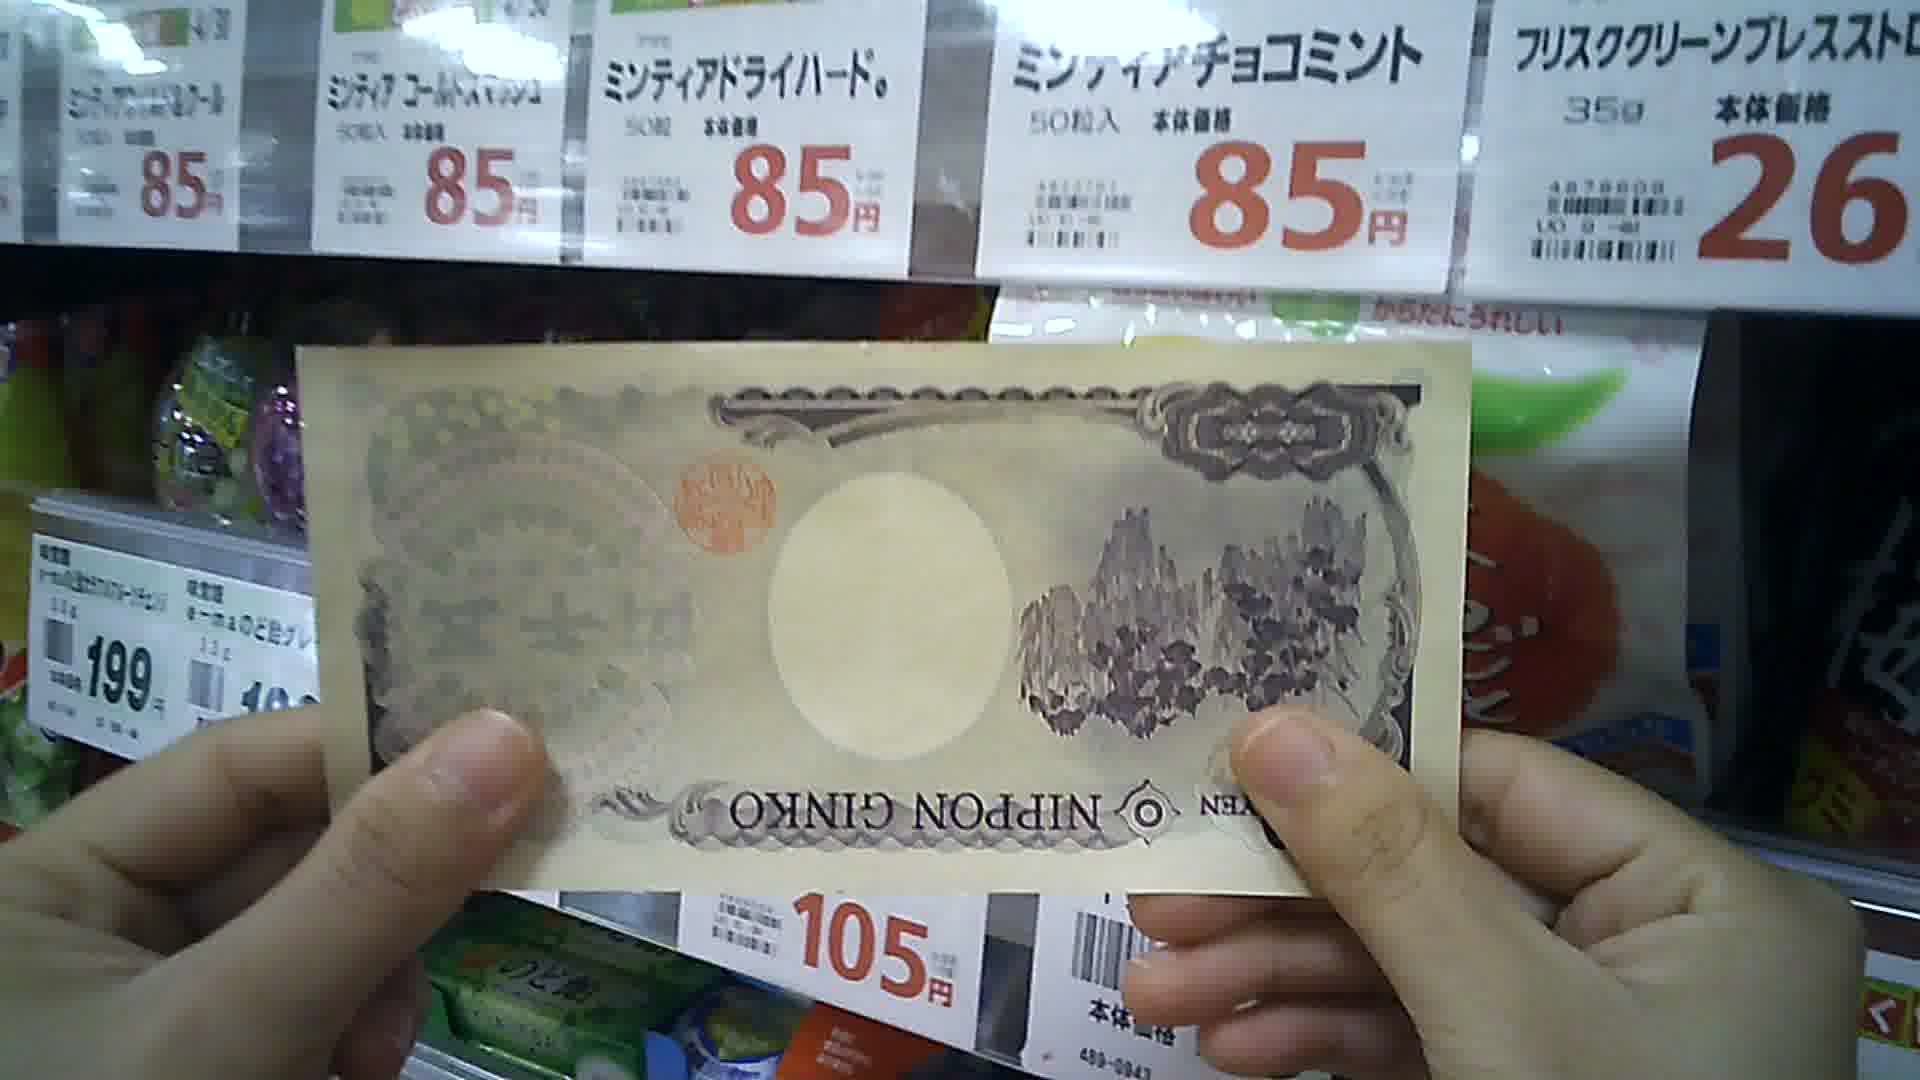5,000 Yen: (284, 328, 1476, 897)
